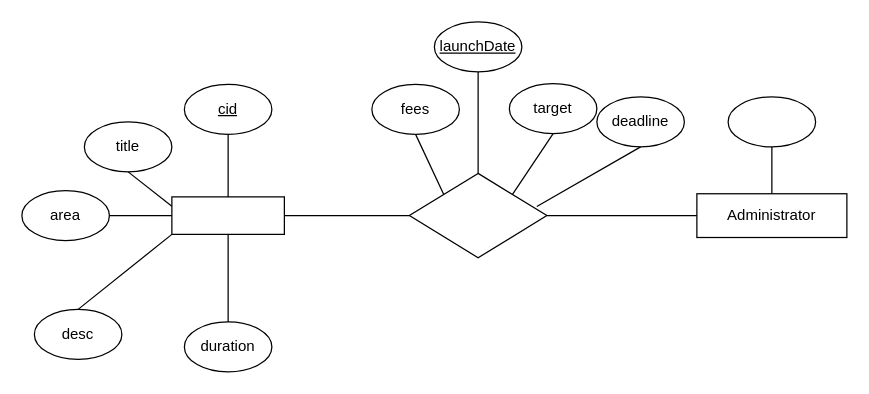
The diagram is 869 pixels wide and 394 high, and some of its shapes have lost their labels. Each missing label, with the centre of its shape:
"aid" goes at point (771, 121).
"Course" goes at point (227, 215).
"Course Offering" goes at point (477, 215).
